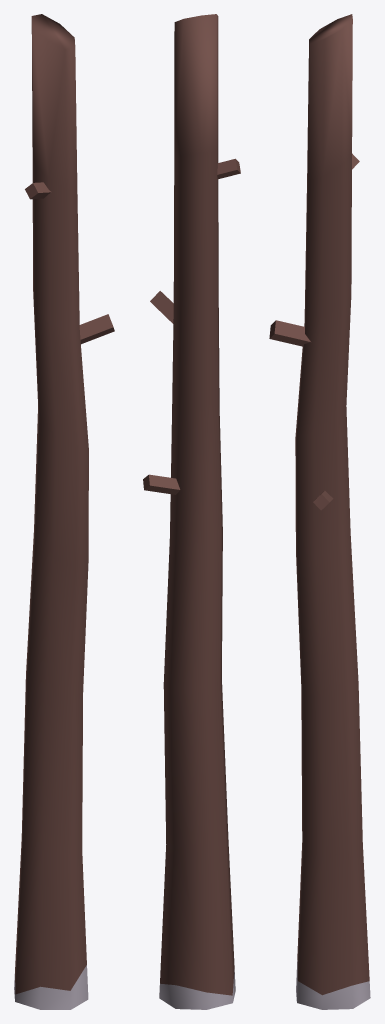
File: tree_big.fbx
The picture shows the model from 3 angles, left to right: view 1: azimuth 90°, elevation 25°; view 2: azimuth 210°, elevation 25°; view 3: azimuth 270°, elevation 25°; orthographic projection.
Visible parts, largest first — view 1: Cube.002; view 2: Cube.002; view 3: Cube.002.
Part boxes in pixels (x1=…): Cube.002: x1=14, y1=14, x2=114, y2=1009; Cube.002: x1=143, y1=14, x2=240, y2=1009; Cube.002: x1=269, y1=14, x2=370, y2=1009.
Size of the model in its own units: 219 by 2502 by 234.
